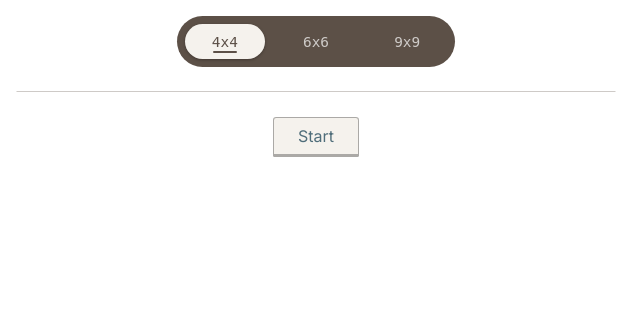
Test case: Play Page Integration › shows loading state when starting game
What coordinates should you click on to do the following:
click the button "Start"
I would click on:
 (316, 137)
Its box is [273,117,359,157].
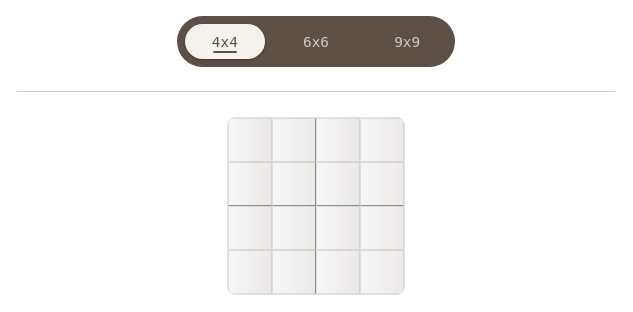
Now the element with test id "skeleton-board" is shown, box [227,117,405,295]
